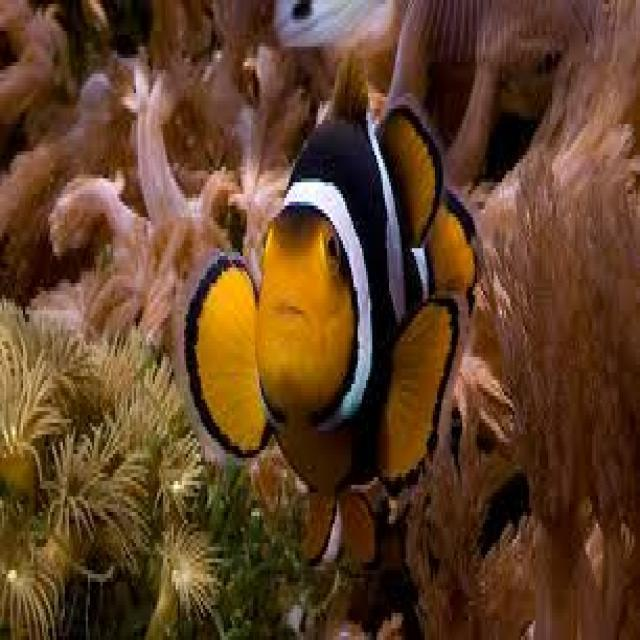ClownFish: (183, 96, 468, 473), (294, 493, 410, 584)
